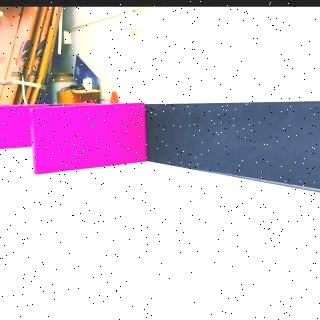xparking: (36, 106, 146, 166)
